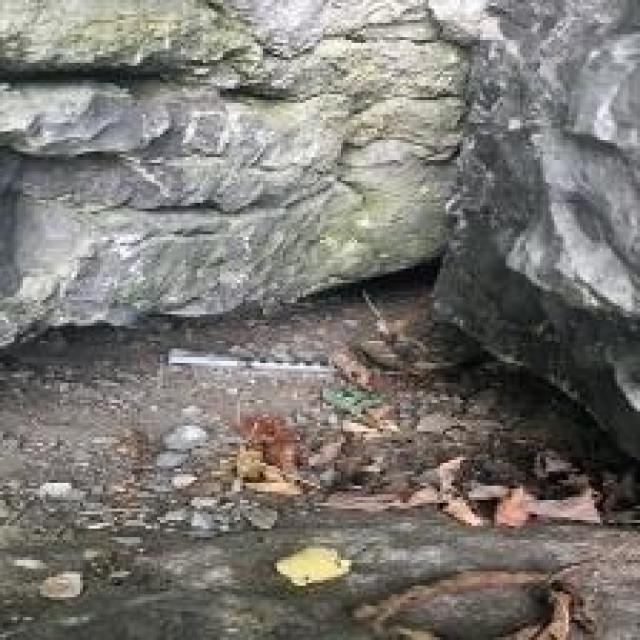syringe: (167, 338, 378, 408)
